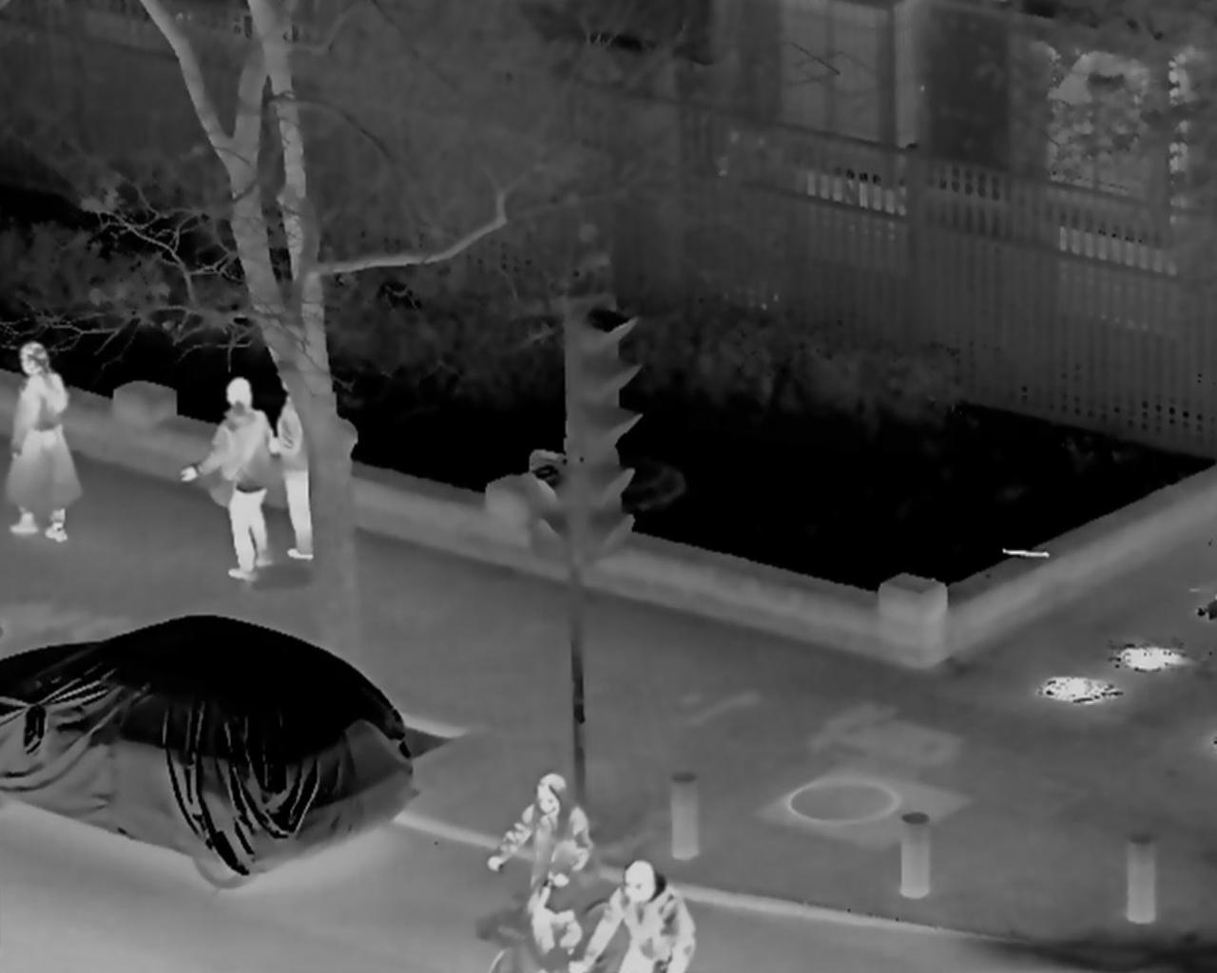person: (175, 376, 276, 580), (481, 772, 586, 967), (5, 340, 76, 544), (576, 860, 692, 973), (269, 367, 331, 564)
